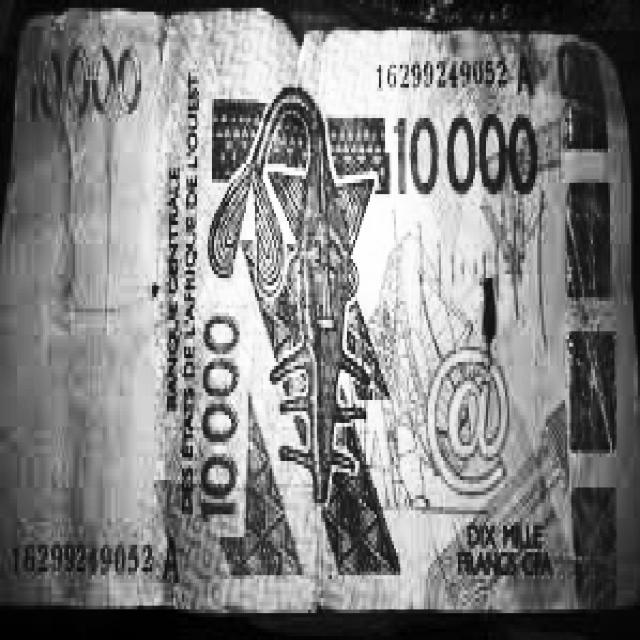niaar junni: (0, 11, 640, 603)
